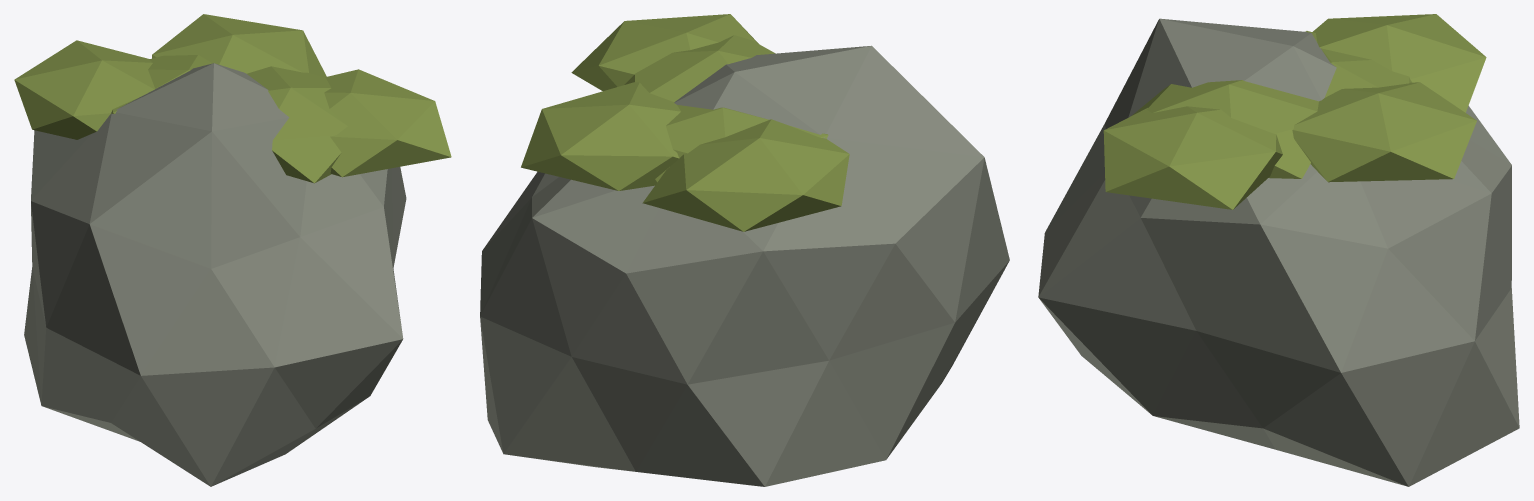
The model's file is BP_Moss_Rock_1.fbx.
3 views of the same model, side by side, from view 1: azimuth 30°, elevation 25°; view 2: azimuth 150°, elevation 25°; view 3: azimuth 270°, elevation 25° (orthographic). The views are drawn at different scales.
Parts seen in each view (by area): view 1: BP_Moss_Rock_1; view 2: BP_Moss_Rock_1; view 3: BP_Moss_Rock_1.
Part boxes in pixels (left/top/right/bottom): BP_Moss_Rock_1: left=14, top=14, right=451, bottom=486; BP_Moss_Rock_1: left=480, top=14, right=1009, bottom=486; BP_Moss_Rock_1: left=1038, top=14, right=1519, bottom=486.
Size of the model in its own units: 111 by 89.76 by 109.
